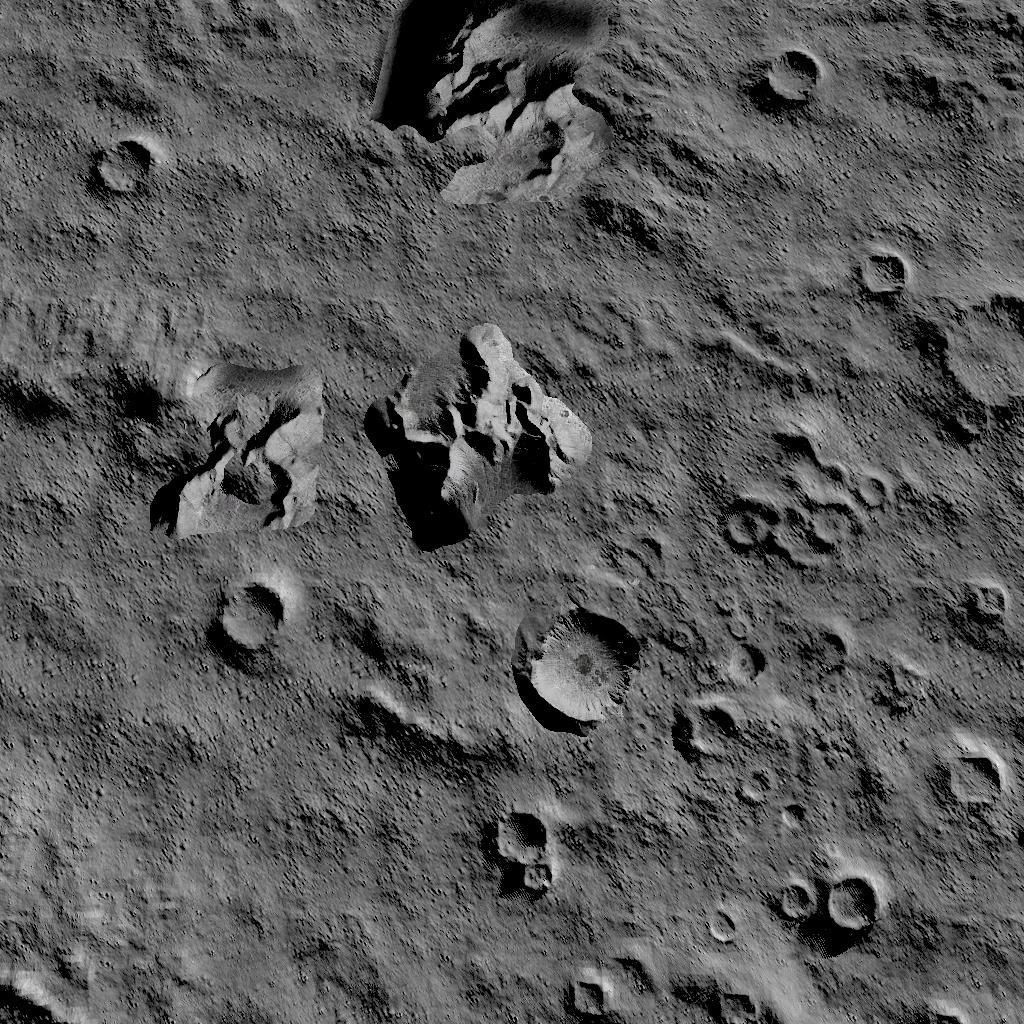Boulders: (381, 0, 710, 255), (4, 300, 326, 540), (366, 320, 593, 548), (0, 978, 58, 1024)
Crater: (721, 435, 898, 568), (518, 605, 646, 733), (941, 288, 1024, 448), (488, 808, 560, 902), (771, 875, 883, 935), (208, 575, 288, 658), (944, 750, 1008, 820), (90, 138, 156, 198), (758, 48, 820, 108), (856, 248, 910, 300), (560, 970, 610, 1023)
Plan surface: (6, 555, 196, 963), (208, 778, 476, 1024), (170, 2, 370, 290), (726, 122, 1024, 232), (0, 0, 160, 123)
